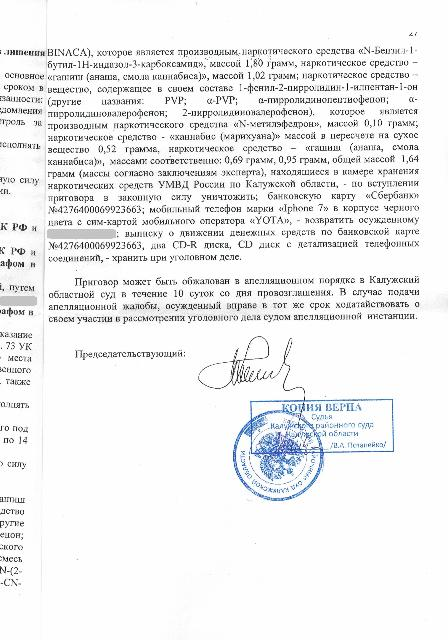stamp: (232, 410, 324, 504)
